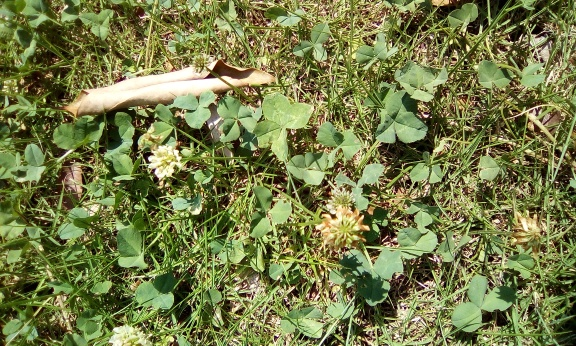4leaf: (253, 93, 313, 161)
